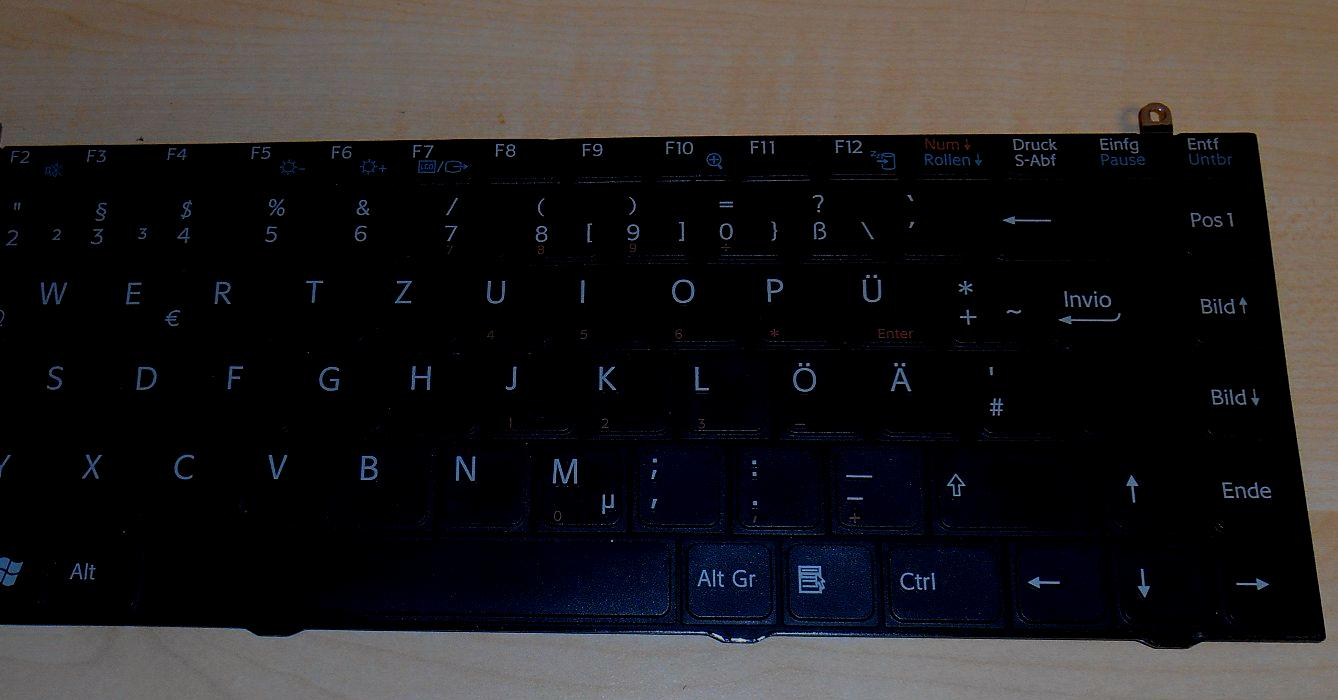0: (702, 178, 790, 259)
1: (1, 191, 44, 264)
2: (1, 191, 68, 264)
3: (74, 189, 156, 263)
4: (162, 187, 245, 263)
5: (248, 185, 333, 262)
6: (338, 183, 424, 261)
7: (428, 183, 514, 260)
8: (521, 184, 605, 262)
9: (611, 180, 697, 260)
a: (1, 351, 44, 434)
accent: (892, 178, 978, 257)
ae: (872, 349, 966, 436)
alt-left: (49, 529, 138, 612)
altgr-right: (679, 534, 771, 617)
b: (340, 436, 432, 525)
c: (153, 438, 243, 526)
caret: (1, 192, 39, 263)
comma: (630, 439, 721, 528)
d: (115, 350, 202, 434)
del: (986, 176, 1166, 258)
e: (105, 266, 191, 348)
enter: (1035, 259, 1186, 436)
f: (208, 350, 294, 433)
g: (299, 348, 385, 433)
h: (392, 351, 481, 434)
hash: (971, 349, 1063, 435)
i: (562, 264, 648, 346)
j: (488, 349, 574, 433)
k: (582, 349, 671, 434)
keyboard: (1, 120, 1324, 644)
l: (677, 347, 766, 433)
less: (1, 437, 44, 525)
m: (532, 438, 623, 529)
minus: (827, 440, 921, 528)
n: (438, 440, 527, 526)
o: (652, 261, 743, 344)
oe: (774, 349, 864, 434)
p: (749, 260, 841, 343)
plus: (942, 261, 1032, 344)
point: (730, 441, 819, 527)
q: (1, 268, 45, 348)
r: (195, 269, 283, 349)
s: (26, 351, 112, 435)
shift-left: (1, 441, 54, 521)
shift-lock: (1, 349, 74, 433)
shift-right: (928, 438, 1095, 530)
space: (143, 529, 673, 616)
ss: (795, 178, 885, 258)
strg-left: (1, 528, 53, 613)
t: (286, 265, 373, 345)
tab: (1, 268, 62, 348)
u: (468, 265, 558, 348)
ue: (845, 261, 938, 346)
v: (247, 437, 337, 524)
w: (17, 265, 103, 348)
x: (60, 437, 149, 524)
y: (1, 438, 58, 524)
z: (377, 265, 464, 347)
